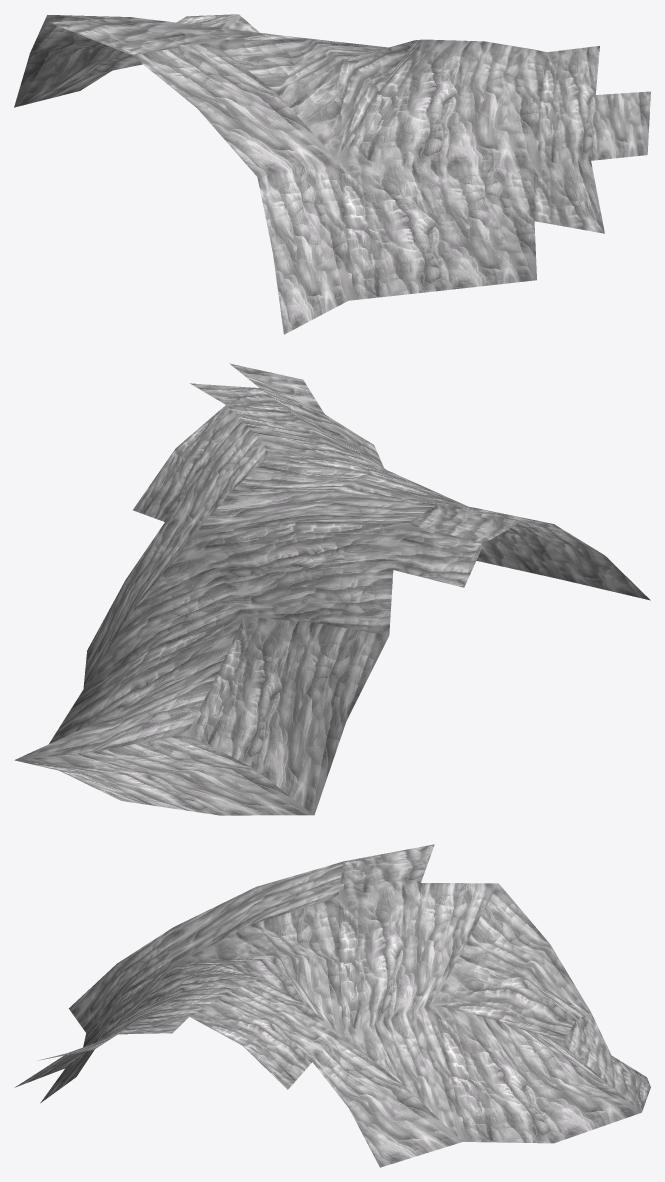
File: SWORDLIGHT20_PS-AREA03_50.fbx
3 renders of one model, top to bottom at view 1: azimuth 30°, elevation 25°; view 2: azimuth 150°, elevation 25°; view 3: azimuth 270°, elevation 25°, orthographic. The views are drawn at different scales.
Parts seen in each view (by area): view 1: SWORDLIGHT20_PS-AREA03_50; view 2: SWORDLIGHT20_PS-AREA03_50; view 3: SWORDLIGHT20_PS-AREA03_50.
Part boxes in pixels (x1,y1,x2,y2): SWORDLIGHT20_PS-AREA03_50: (14,14,650,334); SWORDLIGHT20_PS-AREA03_50: (14,363,650,815); SWORDLIGHT20_PS-AREA03_50: (15,844,650,1167).
Bounding box in the file's own units: 197341 × 81408 × 296708.
Materials: 1 (1 with a texture image).
